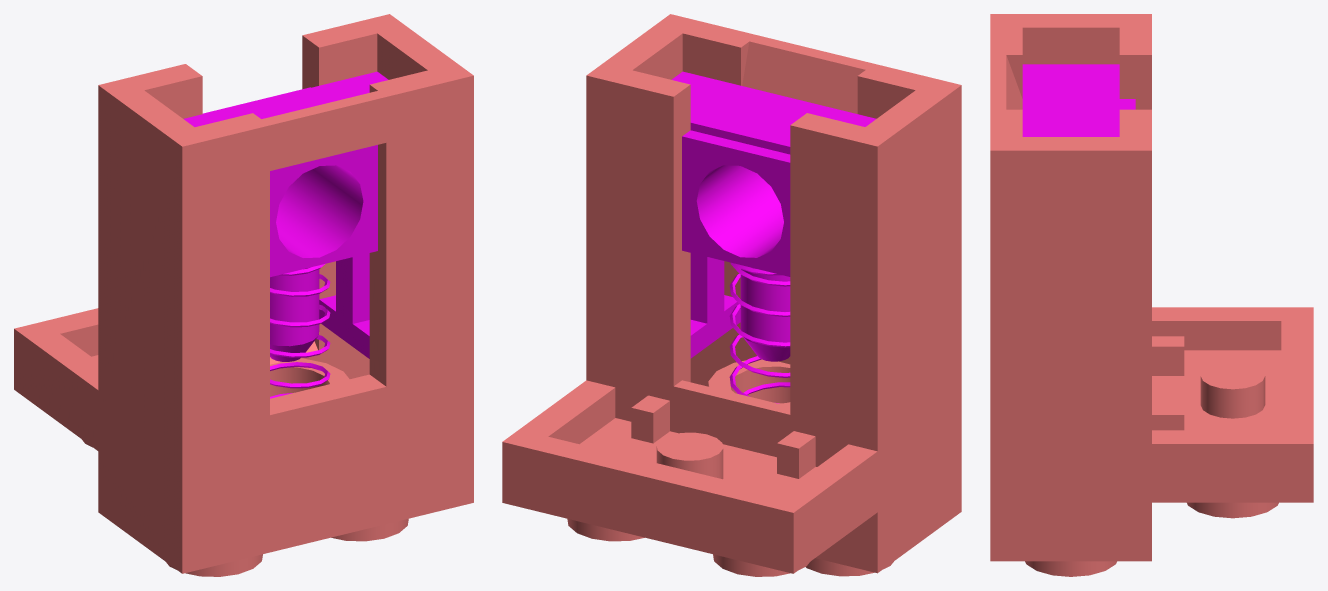
The picture shows the model from 3 angles, left to right: view 1: azimuth 30°, elevation 25°; view 2: azimuth 150°, elevation 25°; view 3: azimuth 270°, elevation 25°; orthographic projection. The views are drawn at different scales.
Visible parts, largest first — view 1: 2605.dat, 2606.dat, 70864.dat; view 2: 2605.dat, 2606.dat, 70864.dat; view 3: 2605.dat, 2606.dat.
Part boxes in pixels (x1,y1,x2,y2): 2605.dat: (14, 14, 473, 576); 2606.dat: (184, 71, 388, 361); 70864.dat: (270, 264, 330, 398); 2605.dat: (502, 14, 961, 576); 2606.dat: (671, 71, 876, 361); 70864.dat: (729, 262, 790, 403); 2605.dat: (990, 14, 1313, 576); 2606.dat: (1022, 64, 1135, 136).
Size of the model in its own units: 0.28 by 0.42 by 0.28.
